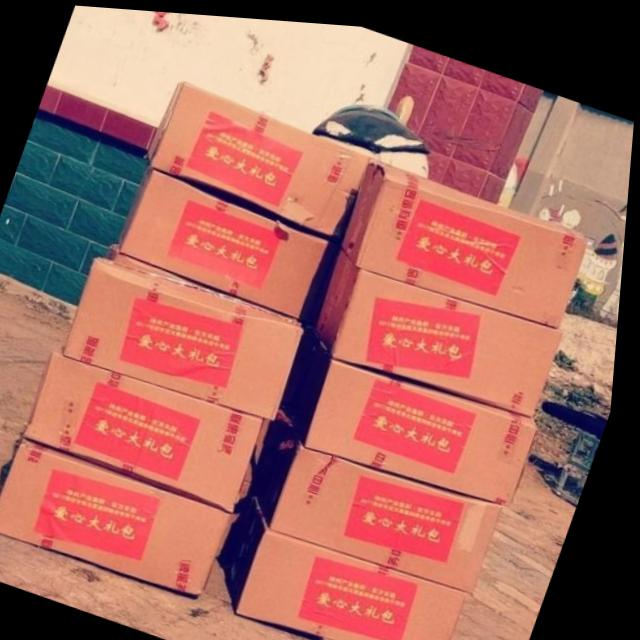box: (261, 409, 507, 586), (291, 328, 546, 498), (320, 239, 566, 406), (347, 153, 589, 320), (29, 347, 270, 506), (230, 486, 477, 640), (70, 255, 304, 415), (0, 440, 241, 593), (147, 78, 369, 229), (121, 166, 330, 312)
